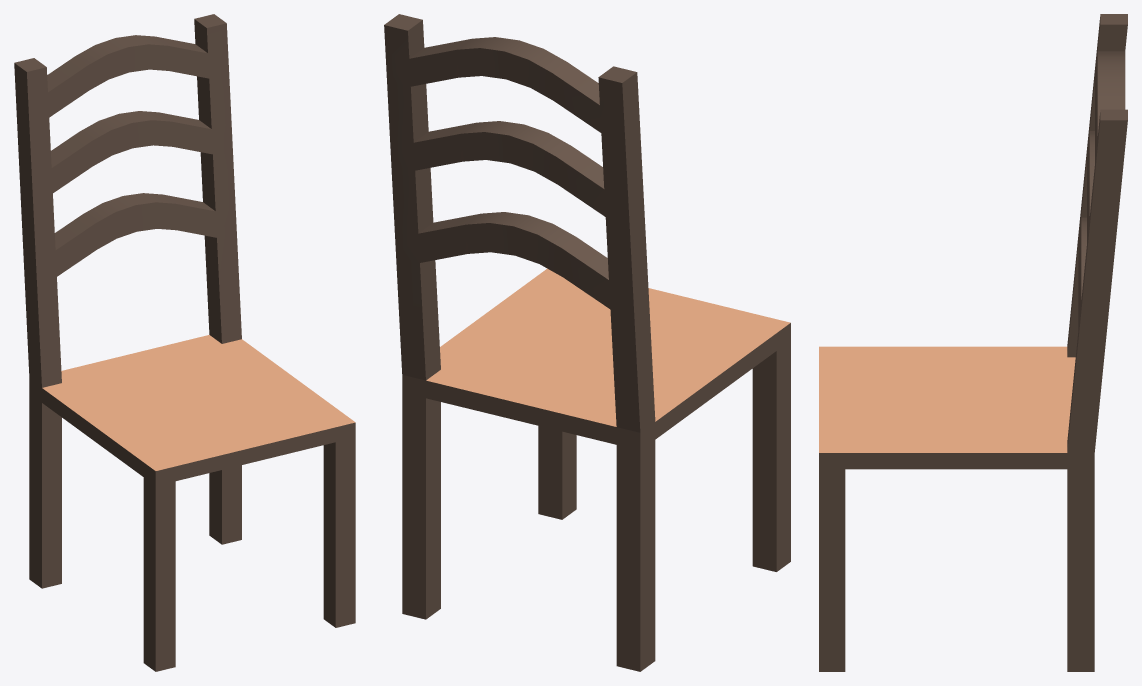
The model's file is Sandalye_Model.fbx.
The picture shows the model from 3 angles, left to right: view 1: azimuth 30°, elevation 25°; view 2: azimuth 150°, elevation 25°; view 3: azimuth 270°, elevation 25°; orthographic projection. The views are drawn at different scales.
Parts seen in each view (by area): view 1: pCube1; view 2: pCube1; view 3: pCube1.
Boxes of the visible parts, left/top/right/bottom form: pCube1: left=14, top=14, right=355, bottom=671; pCube1: left=384, top=14, right=790, bottom=671; pCube1: left=819, top=14, right=1127, bottom=671.
Bounding box in the file's own units: 5.62 × 13.61 × 6.89.
